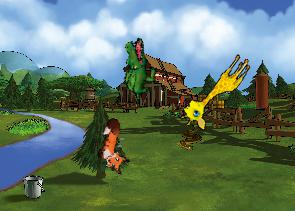crocodile: (108, 35, 167, 104)
fox: (91, 116, 140, 176)
giraffe: (176, 45, 254, 135)
